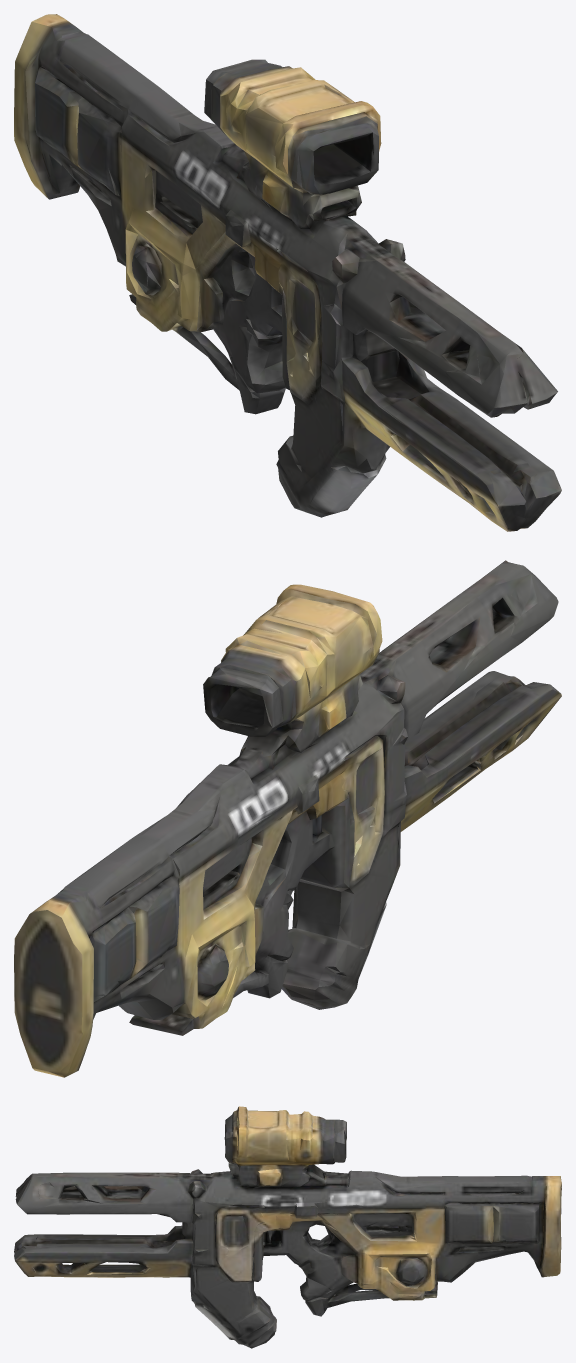
The model's file is futuristic_blaster.glb.
The picture shows the model from 3 angles, top to bottom: view 1: azimuth 30°, elevation 25°; view 2: azimuth 150°, elevation 25°; view 3: azimuth 270°, elevation 25°; orthographic projection. The views are drawn at different scales.
Parts seen in each view (by area): view 1: model; view 2: model; view 3: model.
Boxes of the visible parts, x1=… form: model: x1=14, y1=14, x2=561, y2=531; model: x1=14, y1=560, x2=561, y2=1077; model: x1=14, y1=1106, x2=561, y2=1348.
Size of the model in its own units: 0.1026 by 0.3954 by 0.85.
1 material, 1 textured.
